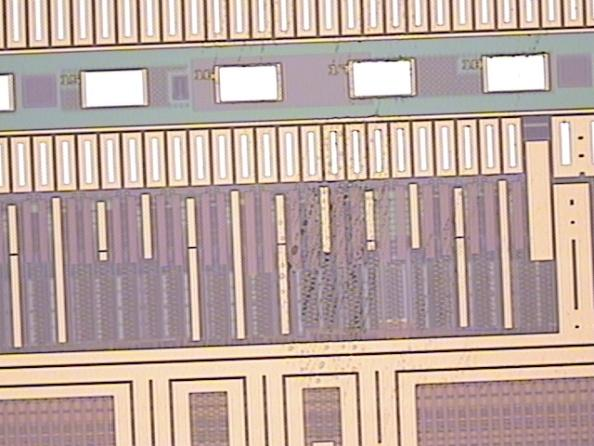PO CONTAMINATION: (204, 23, 554, 397)
